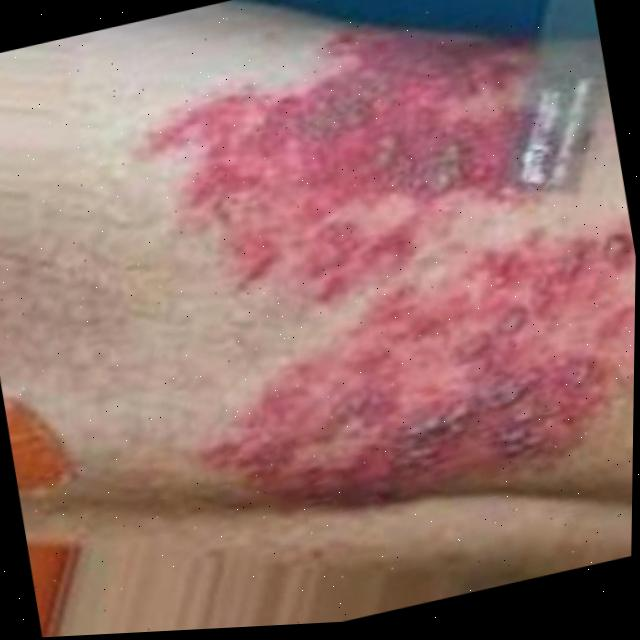Shingles: (126, 0, 640, 526)
